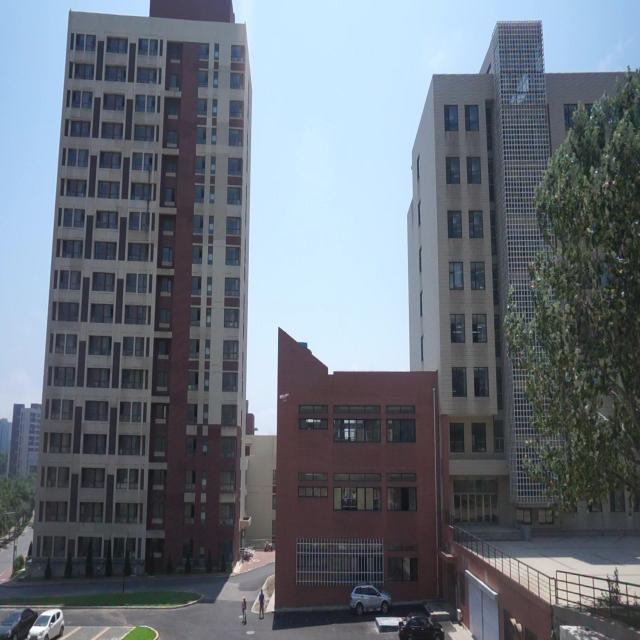drone: (280, 390, 290, 404)
